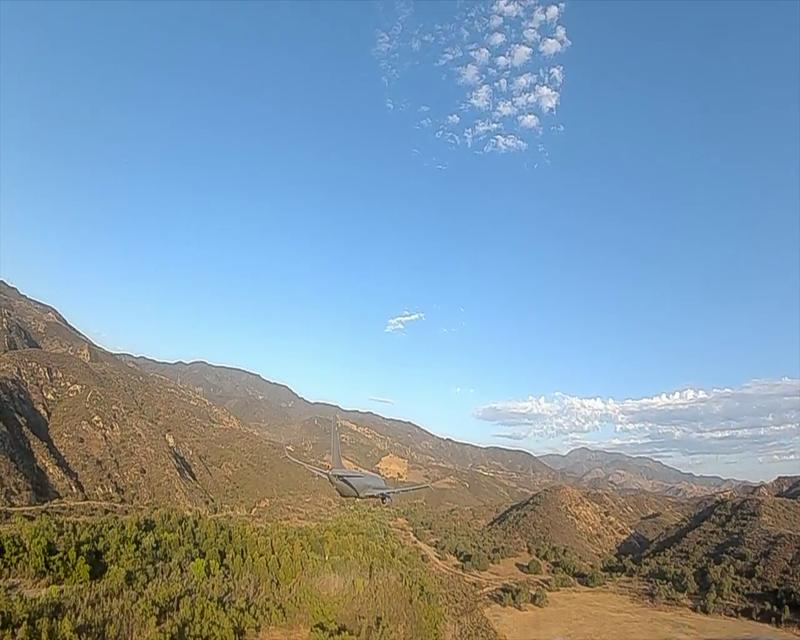UAV: (282, 417, 434, 507)
